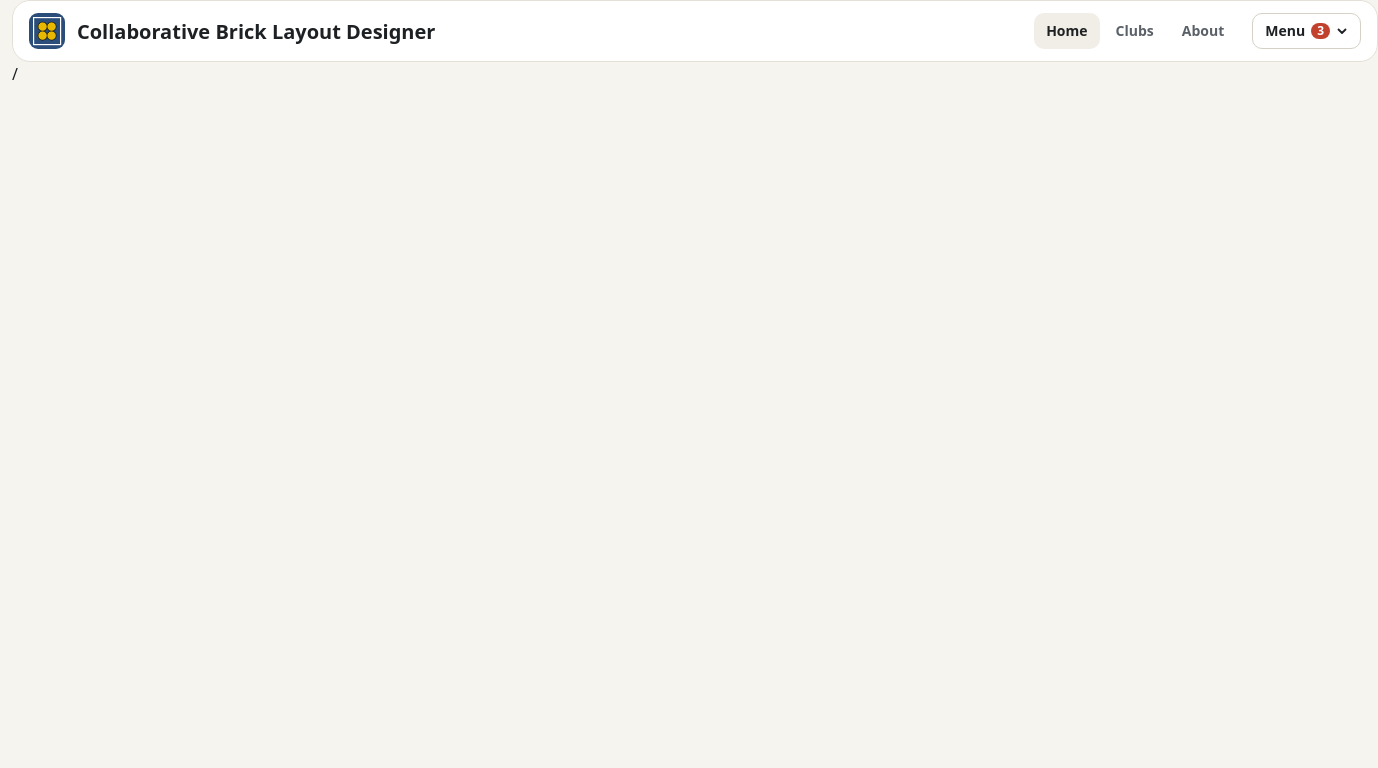
Scenario: Settings menu by role › a moderator: one Moderation entry in the menu, counting the reviews waiting; nothing admin in the bar
Expected: the text named "3 waiting" is shown, [1311,23,1330,39]
Click the button "Menu 3" at (1307, 31), box [1252,13,1361,49]
(page scrolled)
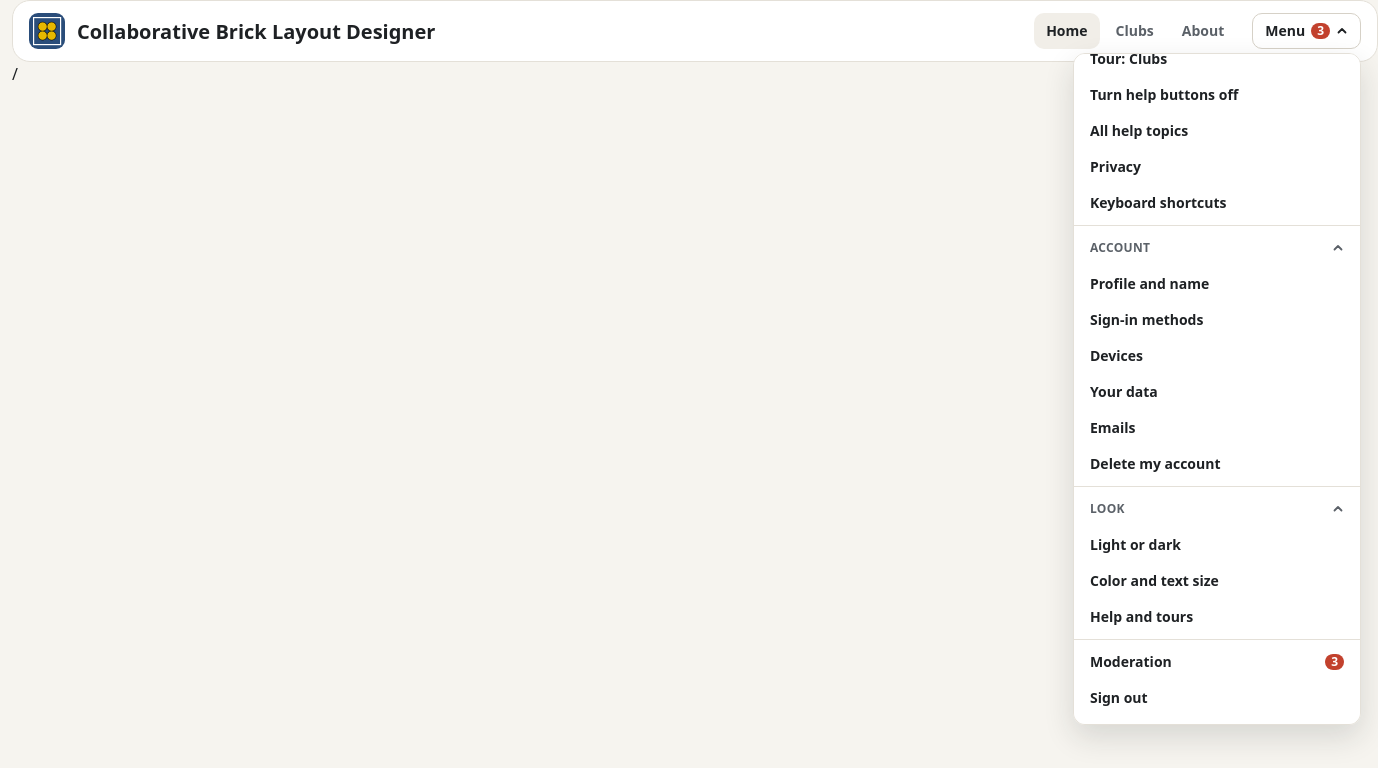
Now the text named "3 reviews waiting" is shown, box [1325,654,1344,670]
